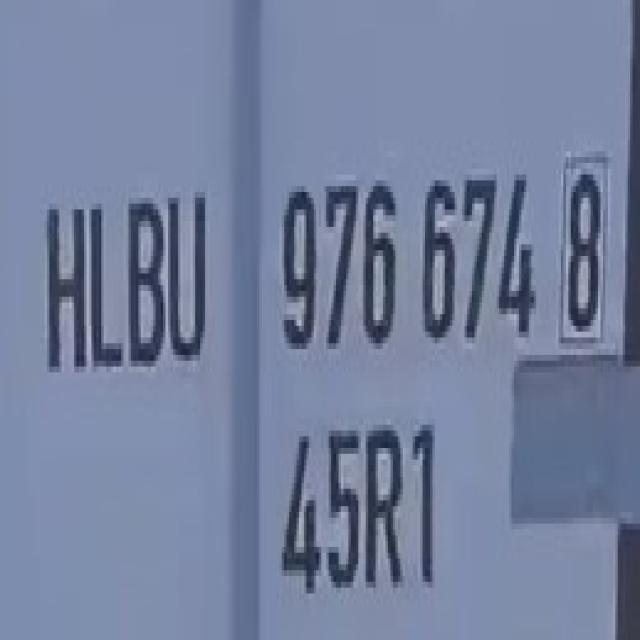dv: (554, 146, 610, 351)
owner: (32, 171, 215, 389)
serial: (270, 159, 540, 370)
size: (268, 391, 451, 597)
